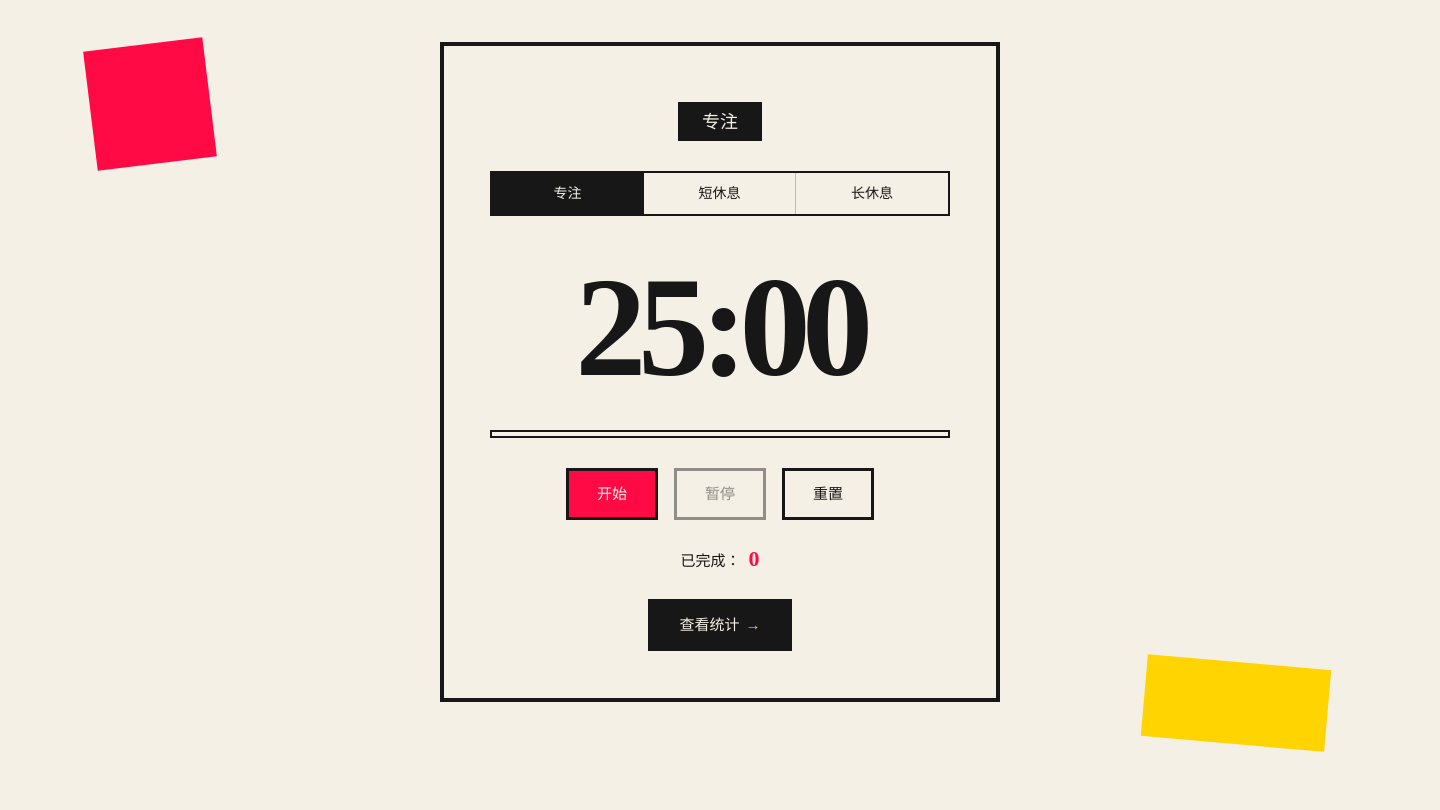
Test case: shows empty stats instead of hardcoded demo data on a fresh launch
Expected: the text "0" is shown, [748,548,760,570]
Click the button "查看统计 →" at (720, 625), box [648,599,792,651]
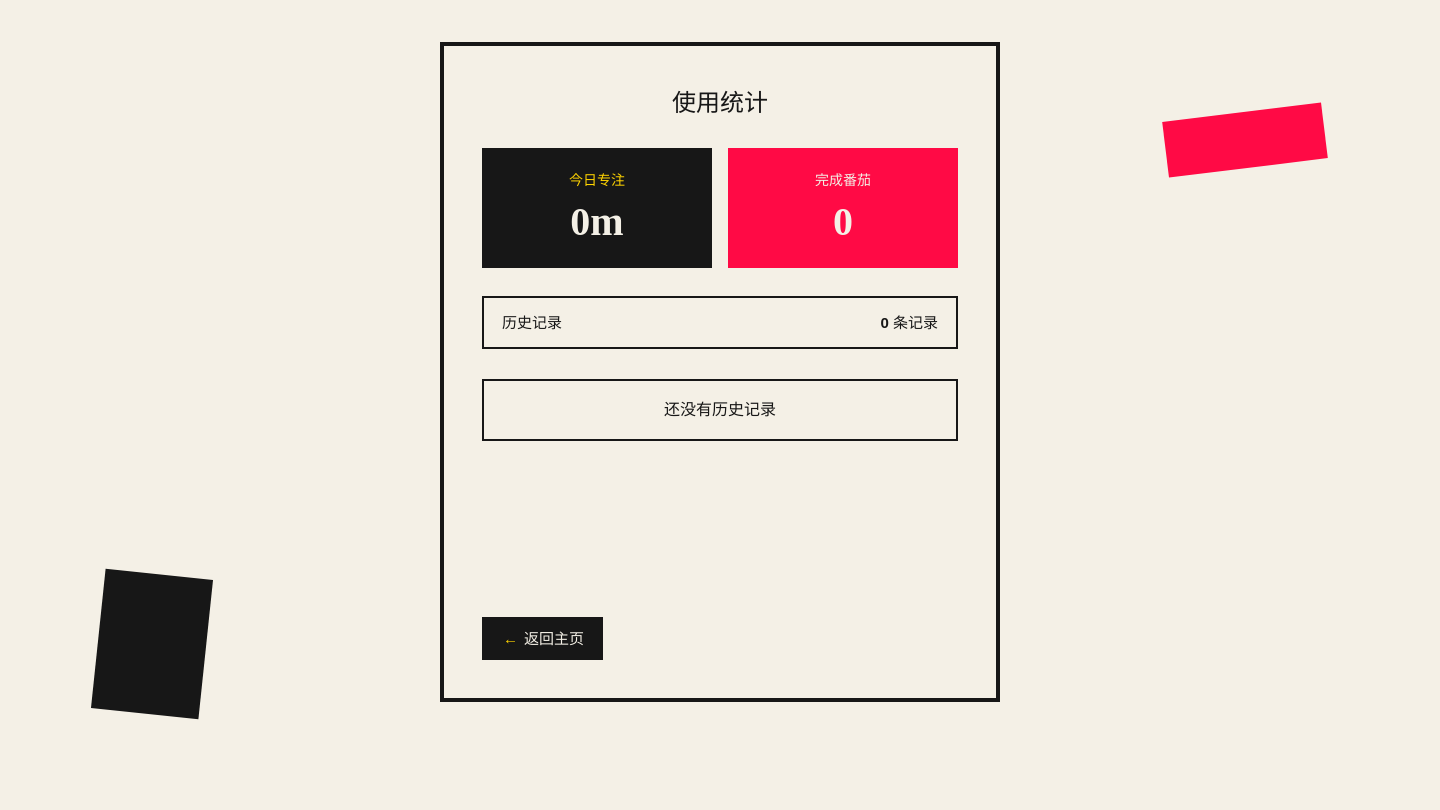
Expected: the heading "使用统计" is shown, [672,90,768,116]
Expected: the text "0m" is shown, [570,200,624,244]
Expected: the text "还没有历史记录" is shown, [482,379,958,441]
